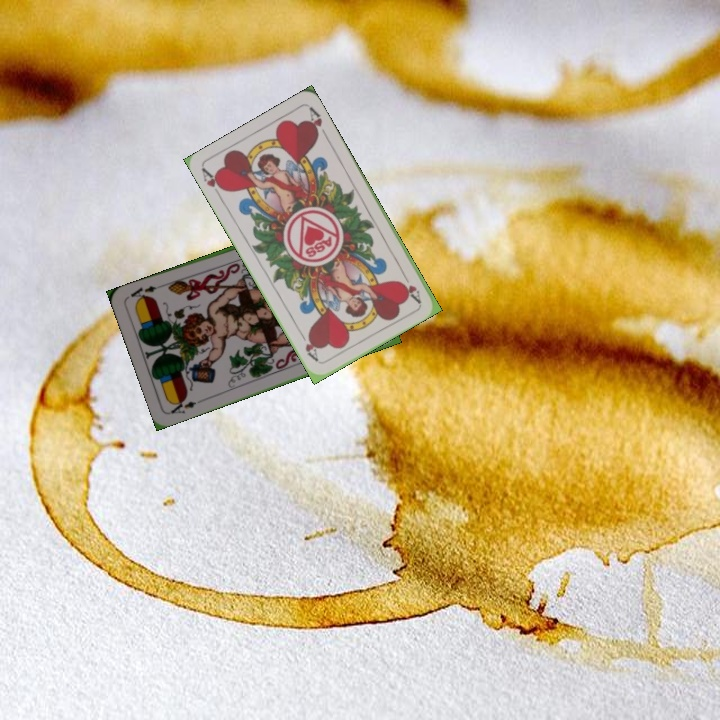EA: (166, 394, 205, 416)
HA: (198, 164, 228, 202), (397, 267, 423, 305)
